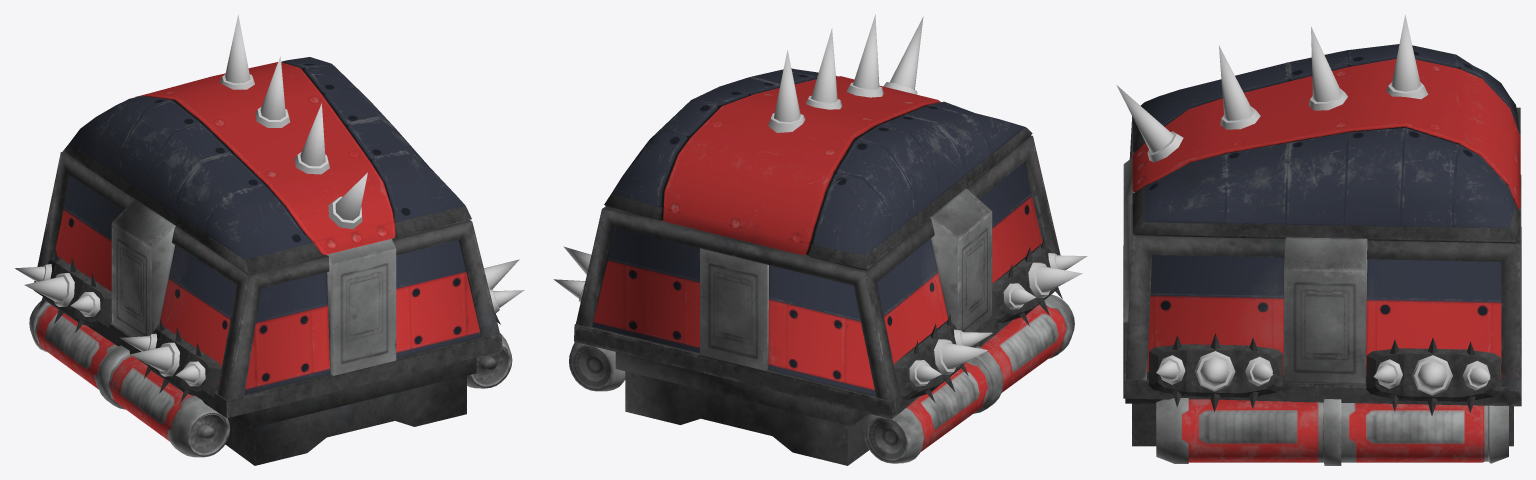
File: Ob_OgreTrainBodyThornLarge.fbx
The picture shows the model from 3 angles, left to right: view 1: azimuth 30°, elevation 25°; view 2: azimuth 150°, elevation 25°; view 3: azimuth 270°, elevation 25°; orthographic projection. The views are drawn at different scales.
Visible parts, largest first — view 1: Ob_OgreTrainBodyThornLarge; view 2: Ob_OgreTrainBodyThornLarge; view 3: Ob_OgreTrainBodyThornLarge.
Boxes of the visible parts, box(x1,y1,x2,y2) form: Ob_OgreTrainBodyThornLarge: box(15, 15, 524, 465); Ob_OgreTrainBodyThornLarge: box(553, 14, 1087, 465); Ob_OgreTrainBodyThornLarge: box(1116, 15, 1521, 465).
Bounding box in the file's own units: 1463 × 1180 × 1136.
